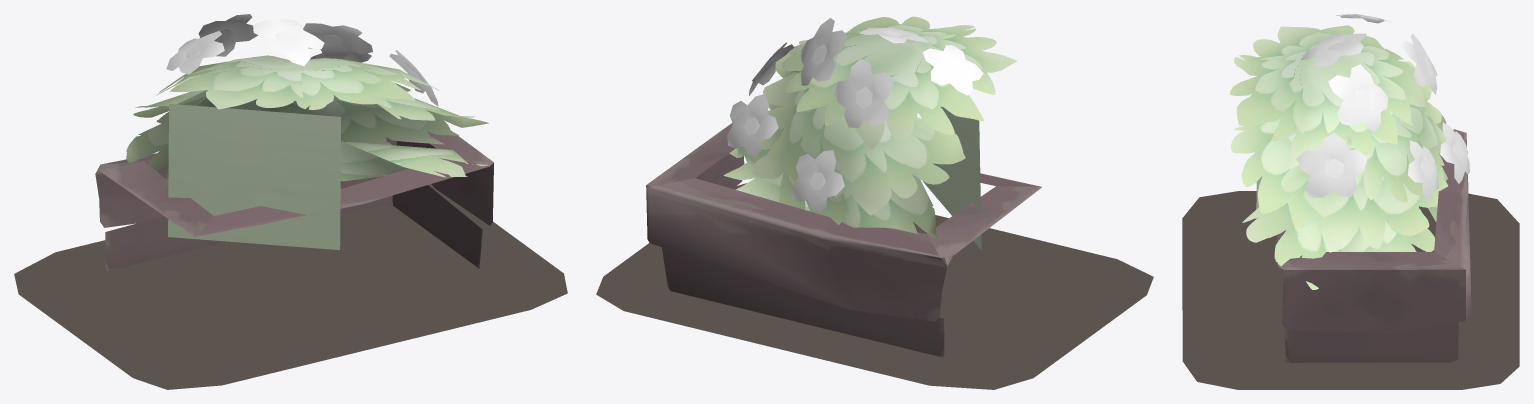
The model's file is FlowerPotBig2.fbx.
3 renders of one model, left to right at view 1: azimuth 30°, elevation 25°; view 2: azimuth 150°, elevation 25°; view 3: azimuth 270°, elevation 25°, orthographic. The views are drawn at different scales.
Visible parts, largest first — view 1: ShadowSquare, BushBlue, FlowerPotBig2, Flower2 (4), Flower2, Flower2 (5), Flower2 (1), Flower2 (2); view 2: FlowerPotBig2, ShadowSquare, BushBlue, Flower2 (1), Flower2 (6), Flower2 (3), Flower2, Flower2 (5), Flower2 (2), Flower2 (4); view 3: BushBlue, ShadowSquare, FlowerPotBig2, Flower2 (2), Flower2, Flower2 (4), Flower2 (3), Flower2 (6), Flower2 (1).
Boxes of the visible parts, x1,y1,x2,y2 form: ShadowSquare: (14, 184, 567, 389); BushBlue: (126, 55, 488, 250); FlowerPotBig2: (95, 130, 493, 271); Flower2 (4): (253, 19, 324, 65); Flower2: (303, 23, 372, 58); Flower2 (5): (166, 30, 224, 74); Flower2 (1): (198, 14, 258, 56); Flower2 (2): (389, 50, 438, 106); FlowerPotBig2: (646, 123, 1041, 357); ShadowSquare: (596, 183, 1153, 389); BushBlue: (723, 16, 1017, 250); Flower2 (1): (833, 59, 894, 127); Flower2 (6): (792, 150, 844, 212); Flower2 (3): (727, 94, 778, 157); Flower2: (801, 18, 847, 85); Flower2 (5): (922, 45, 983, 95); Flower2 (2): (749, 42, 794, 95); Flower2 (4): (859, 27, 927, 43); BushBlue: (1230, 25, 1447, 289); ShadowSquare: (1182, 191, 1519, 389); FlowerPotBig2: (1276, 129, 1471, 362); Flower2 (2): (1296, 132, 1367, 198); Flower2: (1328, 64, 1387, 131); Flower2 (4): (1301, 33, 1366, 67); Flower2 (3): (1407, 140, 1438, 201); Flower2 (6): (1440, 122, 1469, 183); Flower2 (1): (1401, 34, 1437, 94).
Size of the model in its own units: 1.49 by 0.8812 by 1.07.
Materials: 4 (3 with a texture image).
